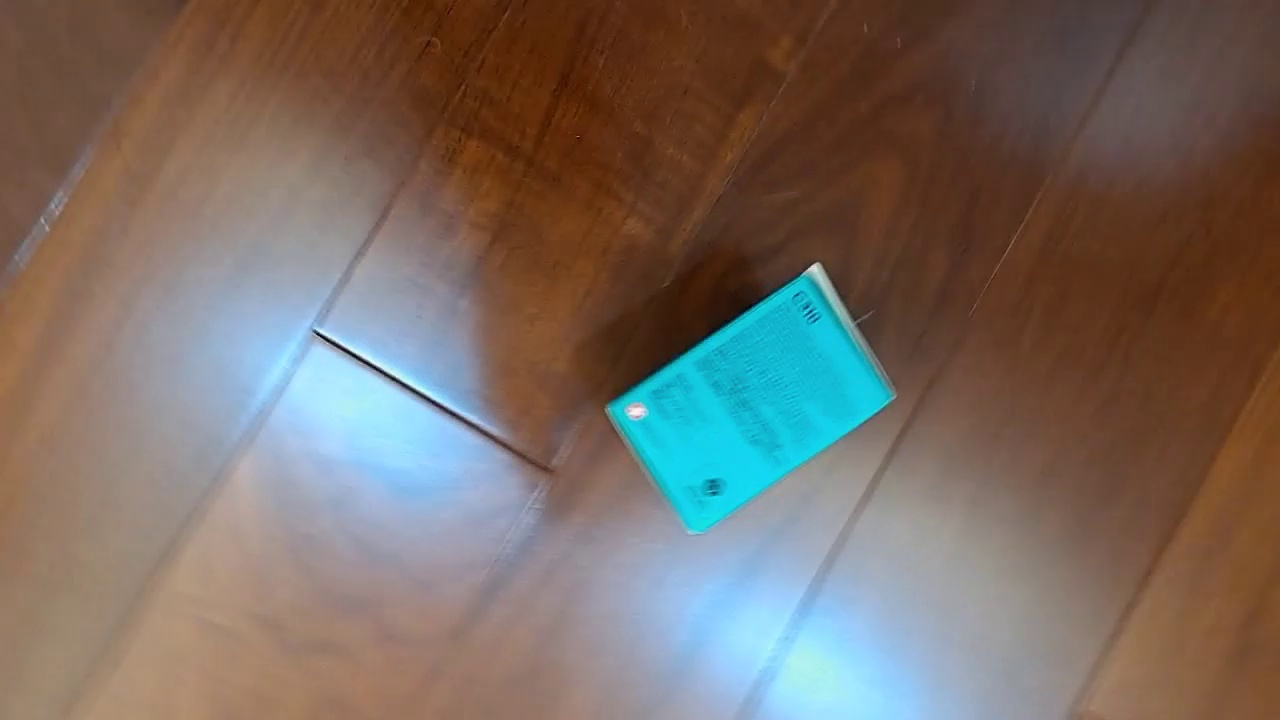webcam: (601, 257, 900, 537)
